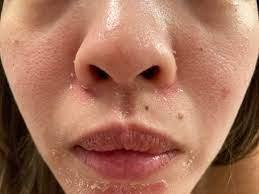Dry-Skin: (143, 76, 195, 111), (57, 58, 93, 98)
